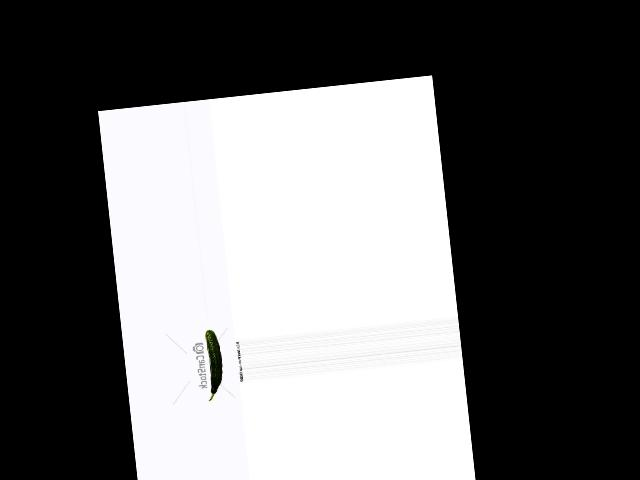cucumber: (202, 329, 226, 401)
